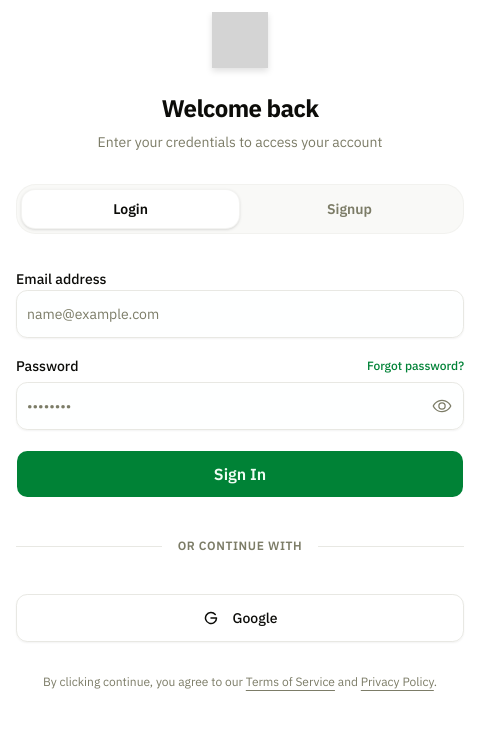
Test: AuthForm Component › switches to signup mode when signup tab is clicked
Click the button "signup" at (350, 209), box [240,189,459,229]
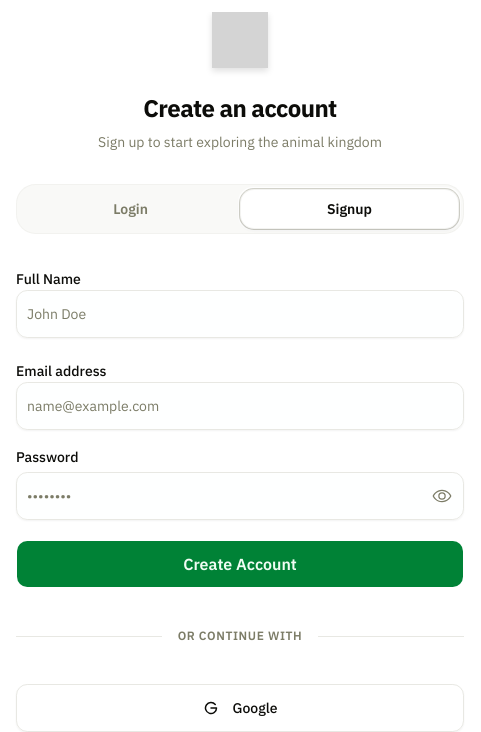
Expected: the heading "Create an account" is shown, [143,92,337,124]
Expected: the text "Create Account" is shown, [183,552,297,576]
